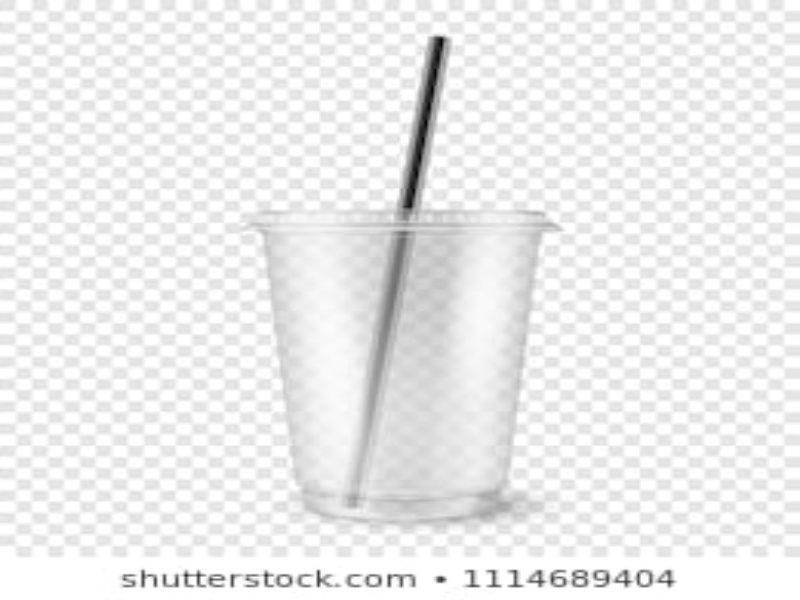plastic-cup: (244, 204, 562, 521)
straw: (342, 29, 451, 507)
